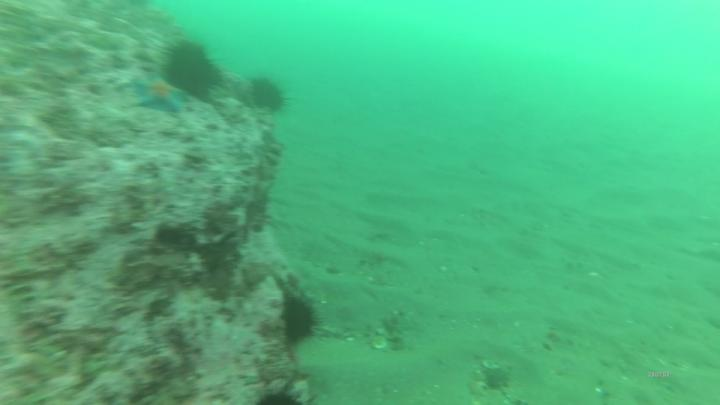echinus: (164, 38, 227, 101), (281, 296, 317, 349), (250, 73, 287, 116)
starfish: (130, 74, 183, 112)
